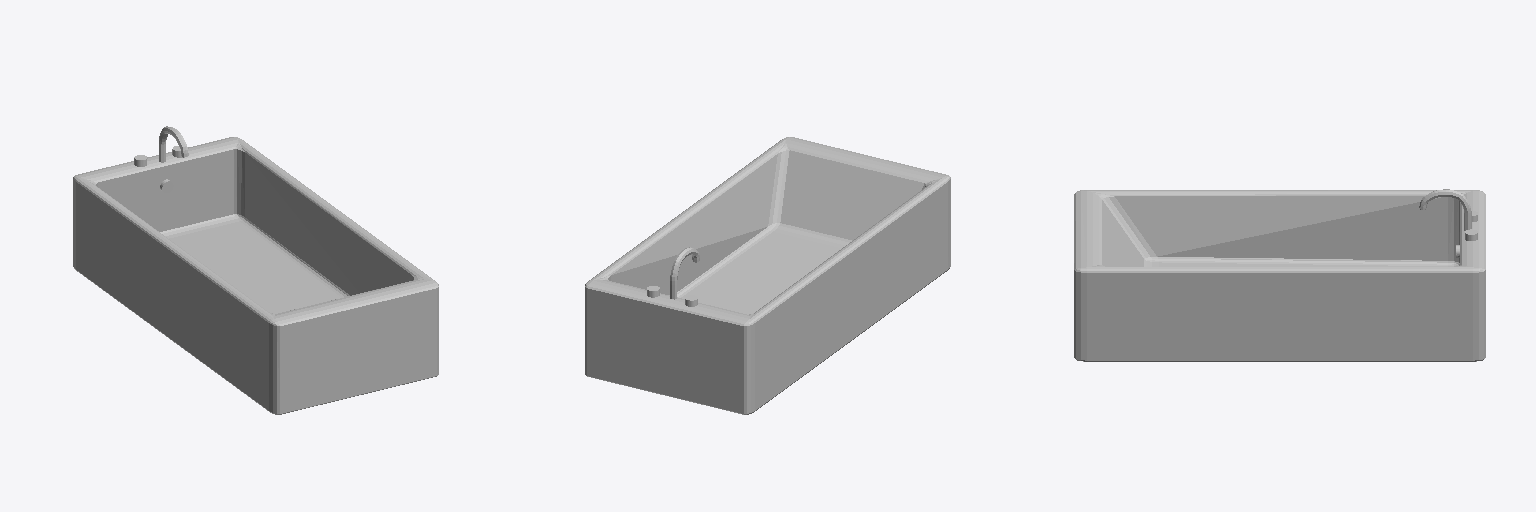
File: tub.obj
3 renders of one model, left to right at view 1: azimuth 30°, elevation 25°; view 2: azimuth 150°, elevation 25°; view 3: azimuth 270°, elevation 25°, orthographic.
Visible parts, largest first — view 1: Cube; view 2: Cube; view 3: Cube, Plane.
Part boxes in pixels (x1,y1,x2,y2): Cube: (73, 137, 438, 414); Cube: (585, 137, 950, 414); Cube: (1074, 190, 1485, 361); Plane: (1419, 189, 1471, 230).
Size of the model in its own units: 2 by 1.52 by 4.26.